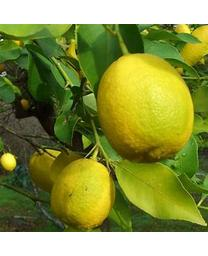lemon: (98, 54, 193, 164), (52, 158, 117, 229), (2, 154, 17, 171)
